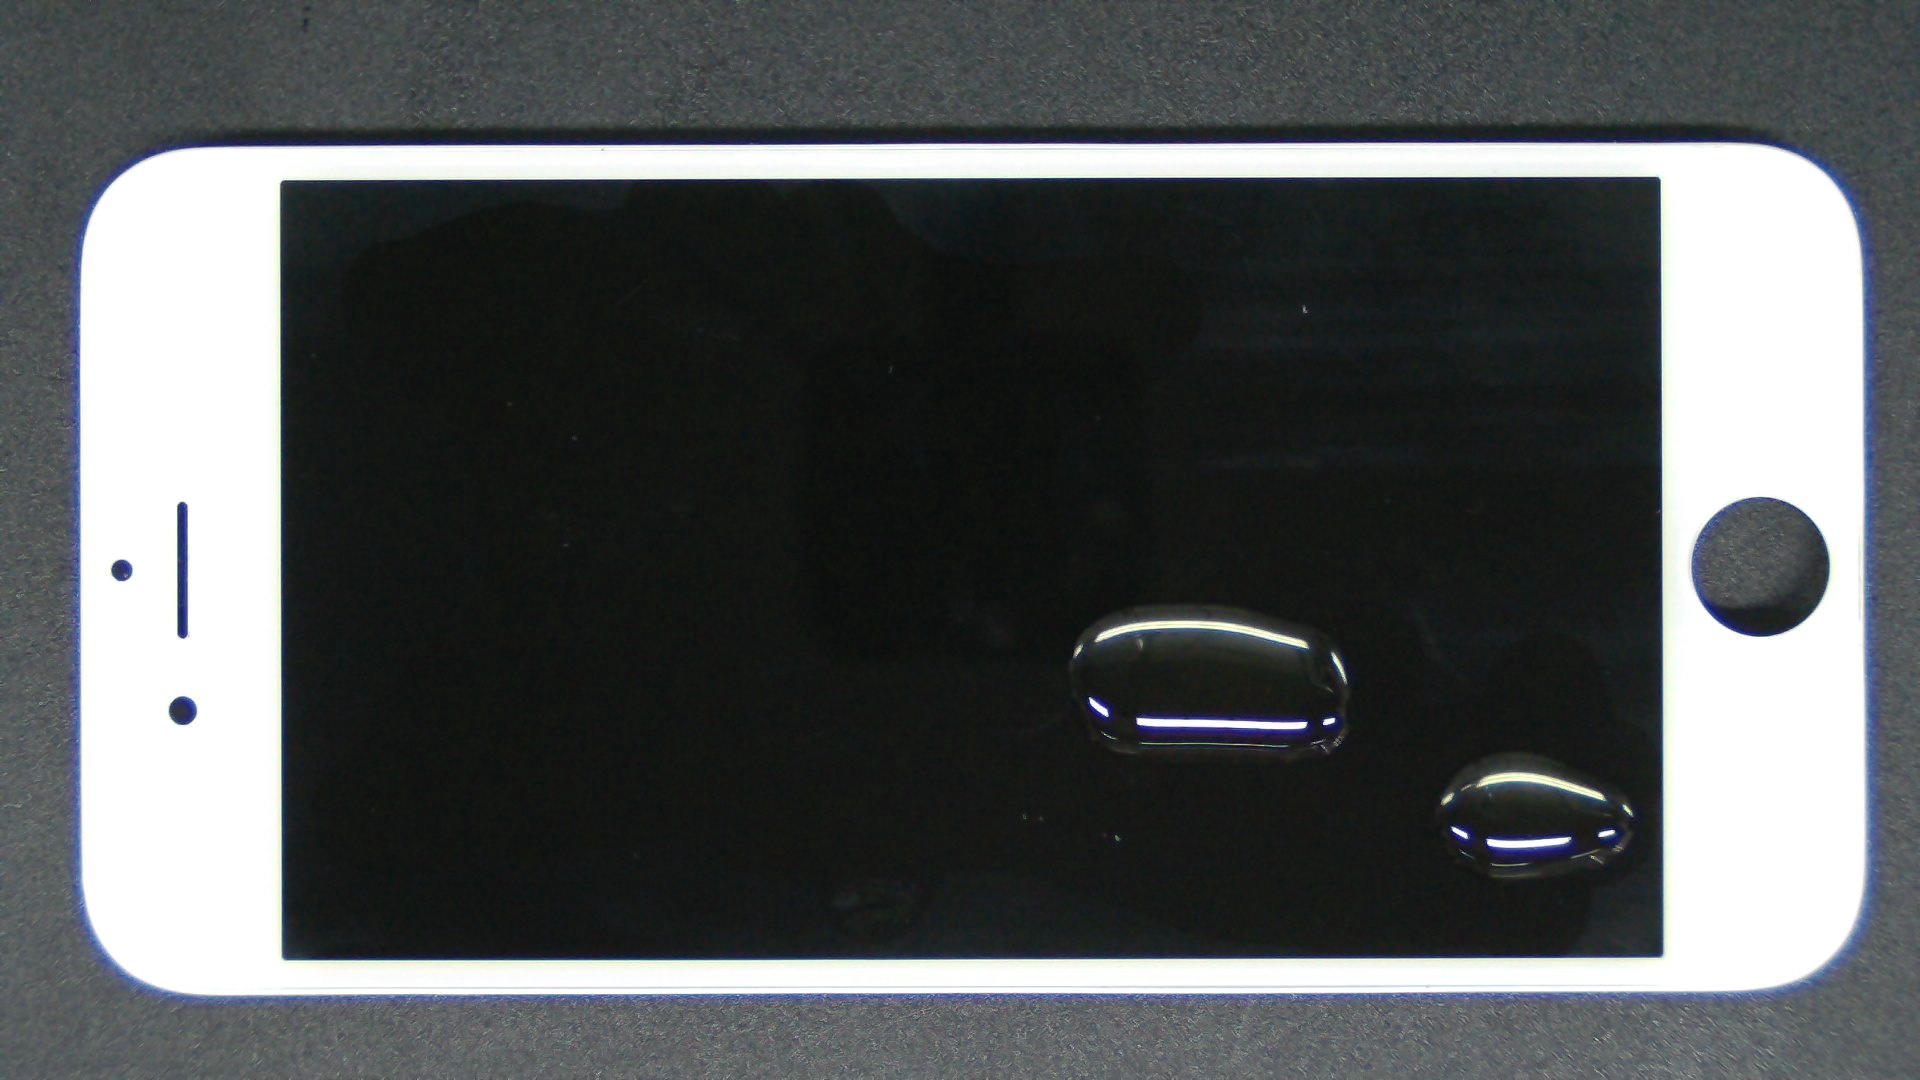oil: (756, 376, 1920, 1080), (596, 301, 1784, 905)
